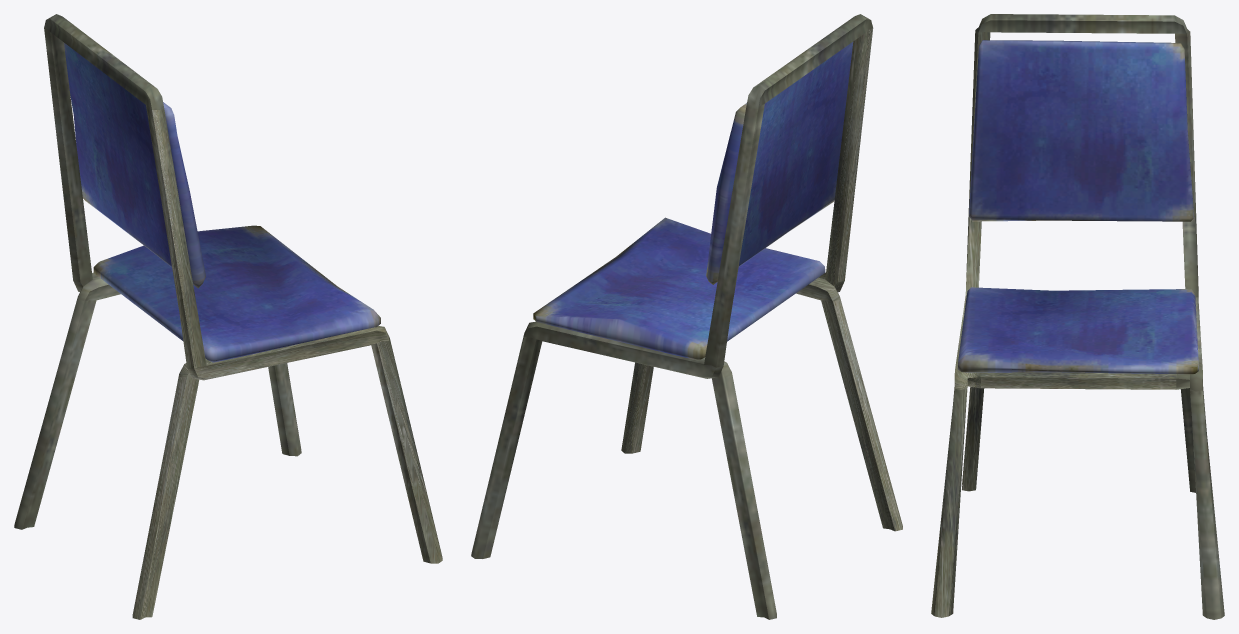
Rendered from chaise.glb.
3 views of the same model, side by side, from view 1: azimuth 30°, elevation 25°; view 2: azimuth 150°, elevation 25°; view 3: azimuth 270°, elevation 25° (orthographic). The views are drawn at different scales.
Visible parts, largest first — view 1: chair02a; view 2: chair02a; view 3: chair02a.
Boxes of the visible parts, x1,y1,x2,y2 form: chair02a: (14,14,442,619); chair02a: (471,14,902,619); chair02a: (931,14,1224,619).
Size of the model in its own units: 24.19 by 39.8 by 21.93.
2 materials, 2 textured.
